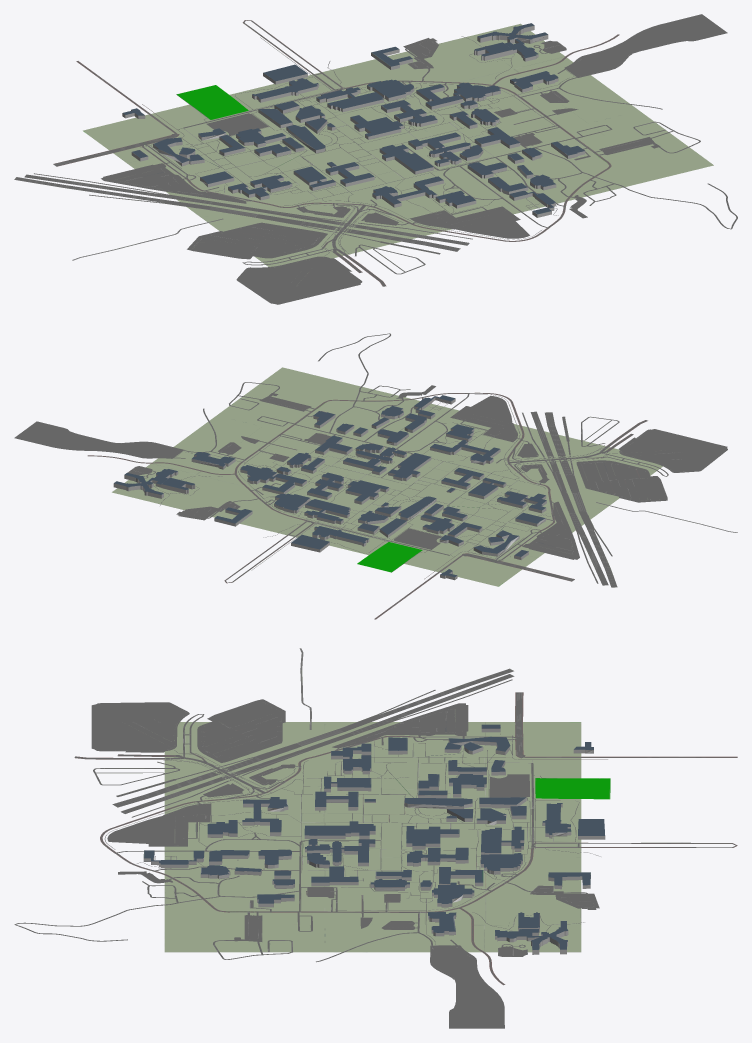
Rendered from map.obj.
3 views of the same model, one above another, from view 1: azimuth 30°, elevation 25°; view 2: azimuth 150°, elevation 25°; view 3: azimuth 270°, elevation 25° (orthographic). The views are drawn at different scales.
Visible parts, largest first — view 1: Road1075; view 2: Road1075; view 3: Road1075.
Part boxes in pixels (left/top/right/bottom): Road1075: left=14, top=14, right=737, bottom=304; Road1075: left=14, top=333, right=737, bottom=619; Road1075: left=14, top=648, right=737, bottom=1028.
Bounding box in the file's own units: 1686 × 13 × 1356.
1 material, 1 textured.
